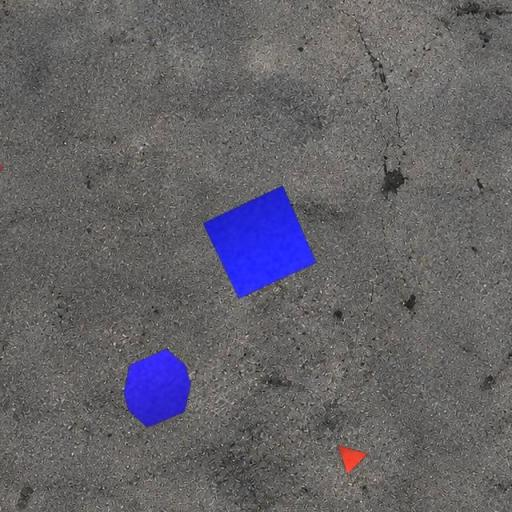BLUE_SQUARE: (202, 185, 316, 299)
